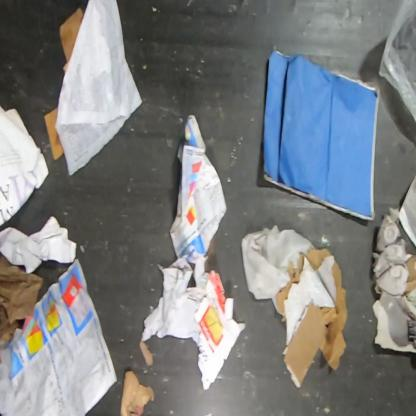cardboard: (259, 46, 384, 224), (274, 247, 348, 388), (0, 251, 44, 345), (403, 212, 415, 400), (59, 7, 85, 73), (44, 107, 65, 161)
soft_plastic: (377, 0, 415, 178)
